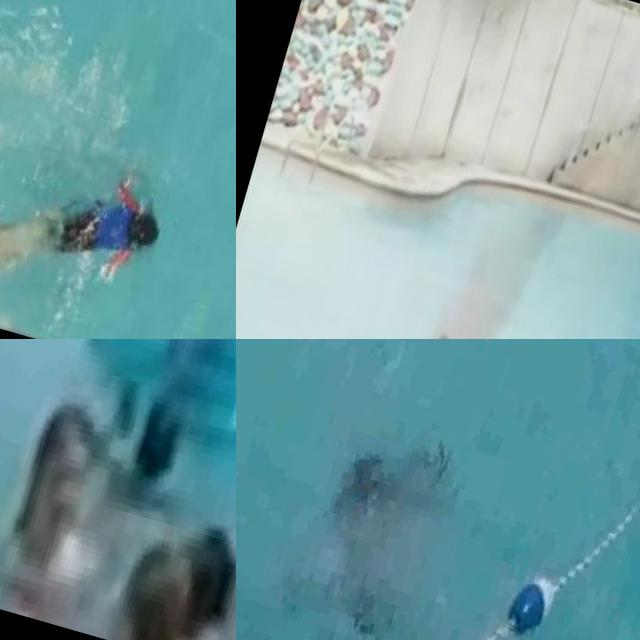drowning: (262, 373, 495, 640), (99, 369, 207, 501)
swimming: (0, 155, 161, 319), (0, 389, 113, 610), (123, 507, 236, 640)
